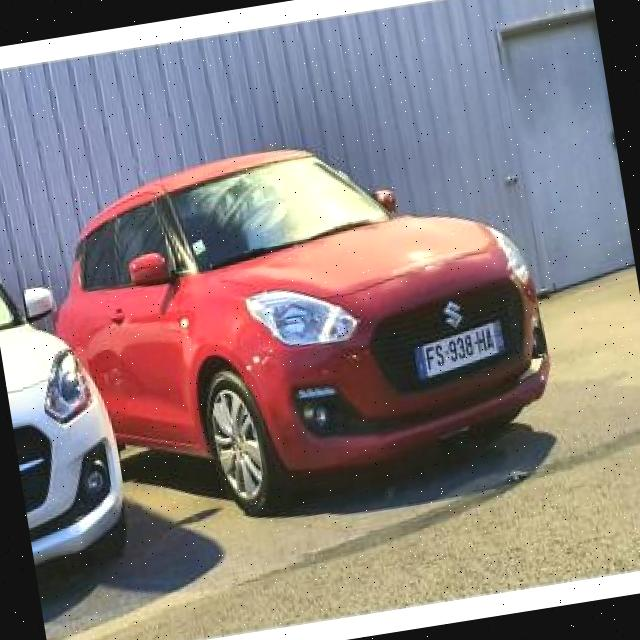EU: (410, 318, 504, 380)
France: (414, 348, 431, 384)
